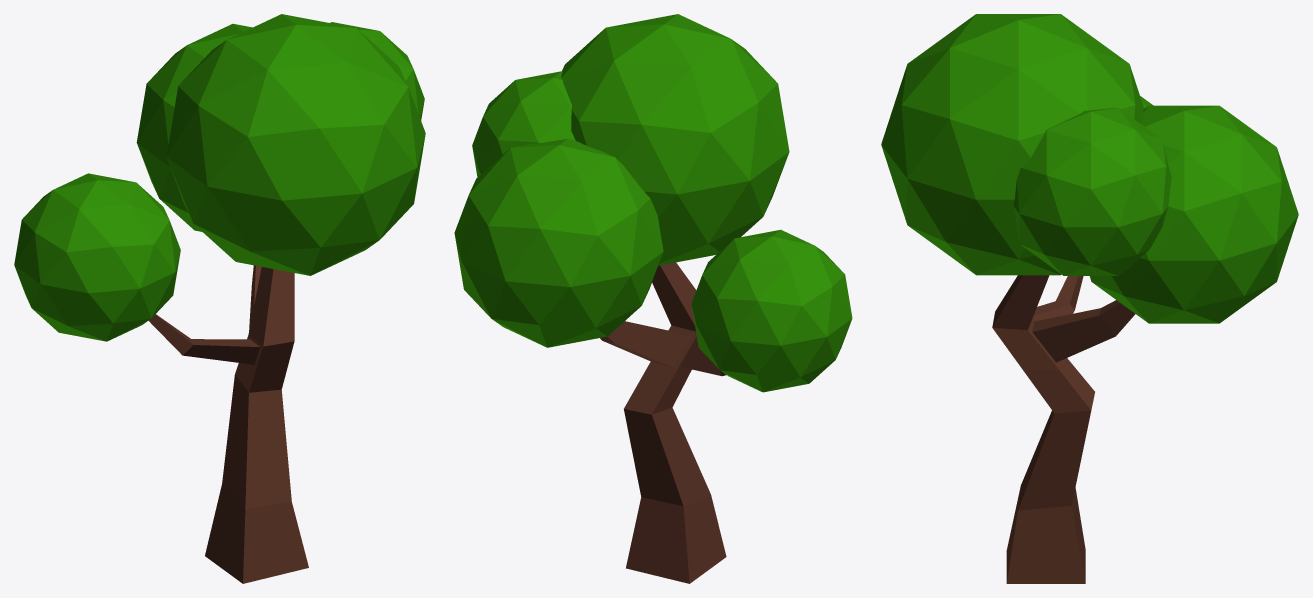
The model's file is Tree.glb.
The picture shows the model from 3 angles, left to right: view 1: azimuth 30°, elevation 25°; view 2: azimuth 150°, elevation 25°; view 3: azimuth 270°, elevation 25°; orthographic projection. The views are drawn at different scales.
Parts seen in each view (by area): view 1: Icosphere.003, Cube; view 2: Icosphere.003, Cube; view 3: Icosphere.003, Cube.
Boxes of the visible parts, x1=… form: Icosphere.003: x1=14, y1=14, x2=425, y2=341; Cube: x1=148, y1=265, x2=308, y2=583; Icosphere.003: x1=454, y1=14, x2=852, y2=392; Cube: x1=600, y1=262, x2=726, y2=583; Icosphere.003: x1=881, y1=14, x2=1298, y2=323; Cube: x1=992, y1=275, x2=1135, y2=583.
Bounding box in the file's own units: 7.08 × 9.73 × 6.58.
